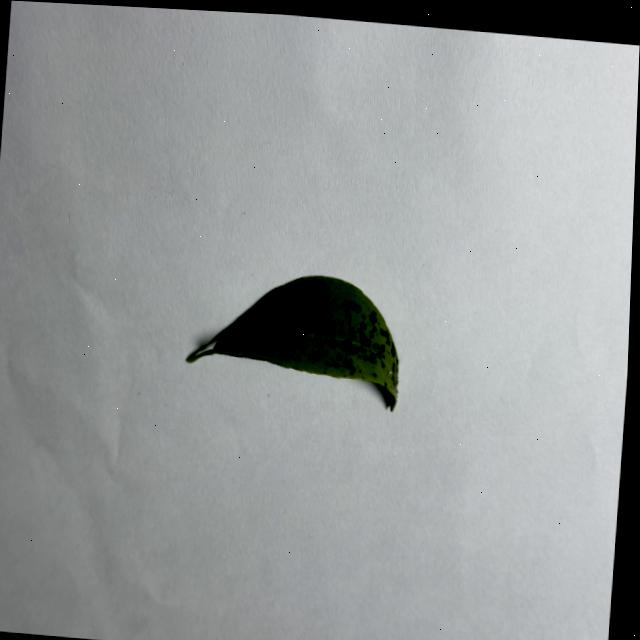sooty_mold: (187, 275, 398, 409)
